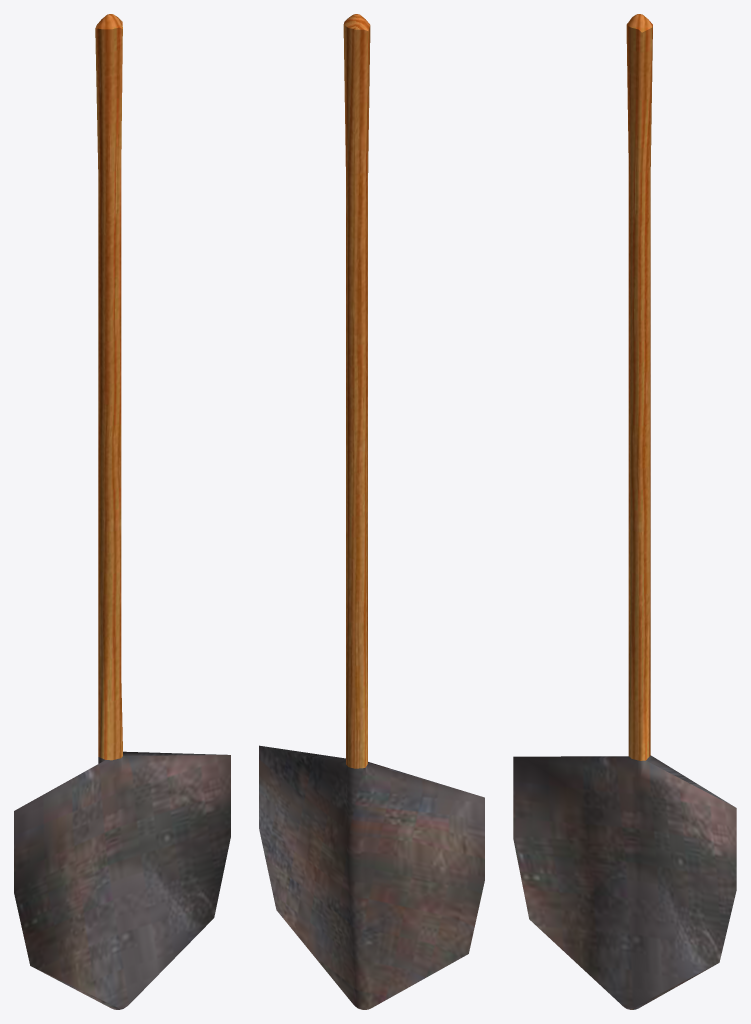
File: shovel.FBX
The picture shows the model from 3 angles, left to right: view 1: azimuth 30°, elevation 25°; view 2: azimuth 150°, elevation 25°; view 3: azimuth 330°, elevation 25°; orthographic projection.
Parts seen in each view (by area): view 1: shovel; view 2: shovel; view 3: shovel.
Part boxes in pixels (left/top/right/bottom): shovel: left=14, top=14, right=230, bottom=1009; shovel: left=259, top=14, right=484, bottom=1009; shovel: left=513, top=14, right=736, bottom=1009.
Bounding box in the file's own units: 14.58 × 2.35 × 62.56.
Materials: 1 (1 with a texture image).
